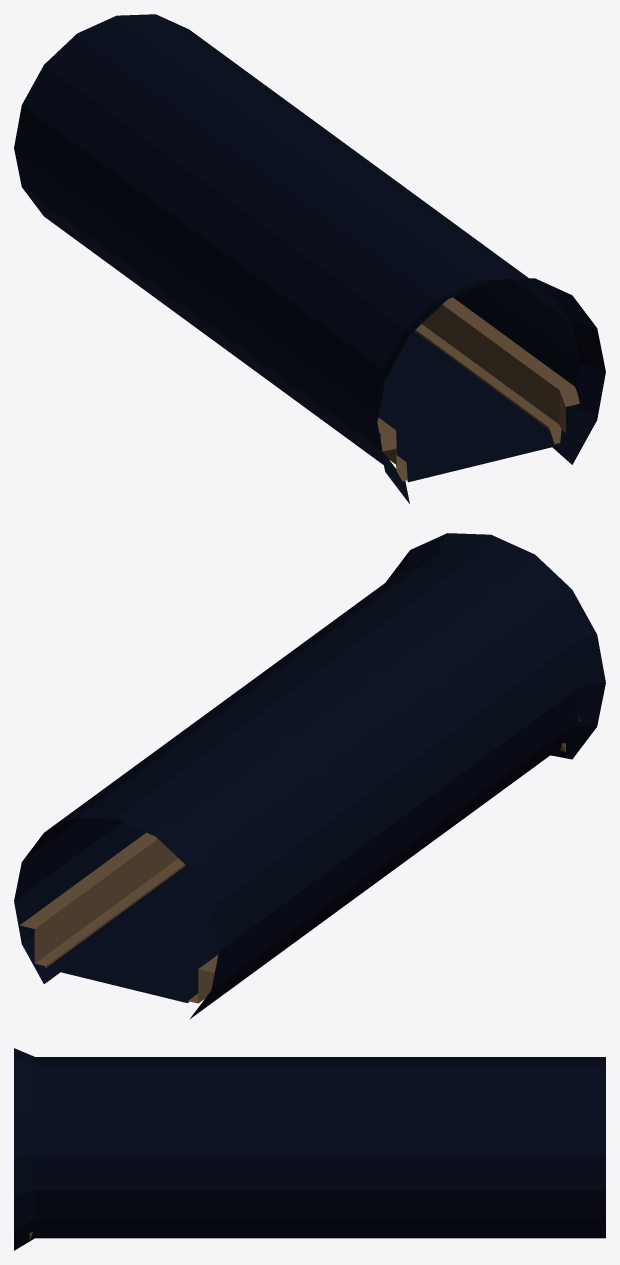
Rendered from tunnelStraight.glb.
3 renders of one model, top to bottom at view 1: azimuth 30°, elevation 25°; view 2: azimuth 150°, elevation 25°; view 3: azimuth 270°, elevation 25°, orthographic. The views are drawn at different scales.
Parts seen in each view (by area): view 1: StraightSegment; view 2: StraightSegment; view 3: StraightSegment.
Part boxes in pixels (x1,y1,x2,y2): StraightSegment: [14, 14, 605, 503]; StraightSegment: [14, 533, 605, 1019]; StraightSegment: [14, 1048, 605, 1250].
Size of the model in its own units: 14.22 by 12.14 by 40.21.
